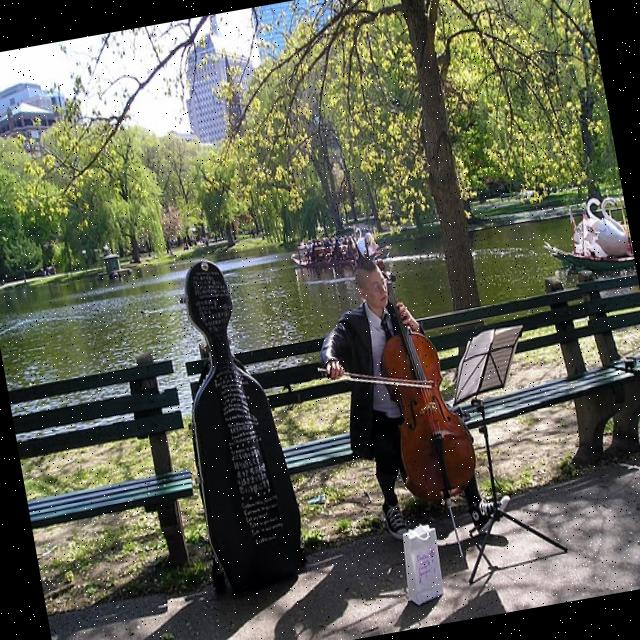cello: (364, 248, 482, 506)
